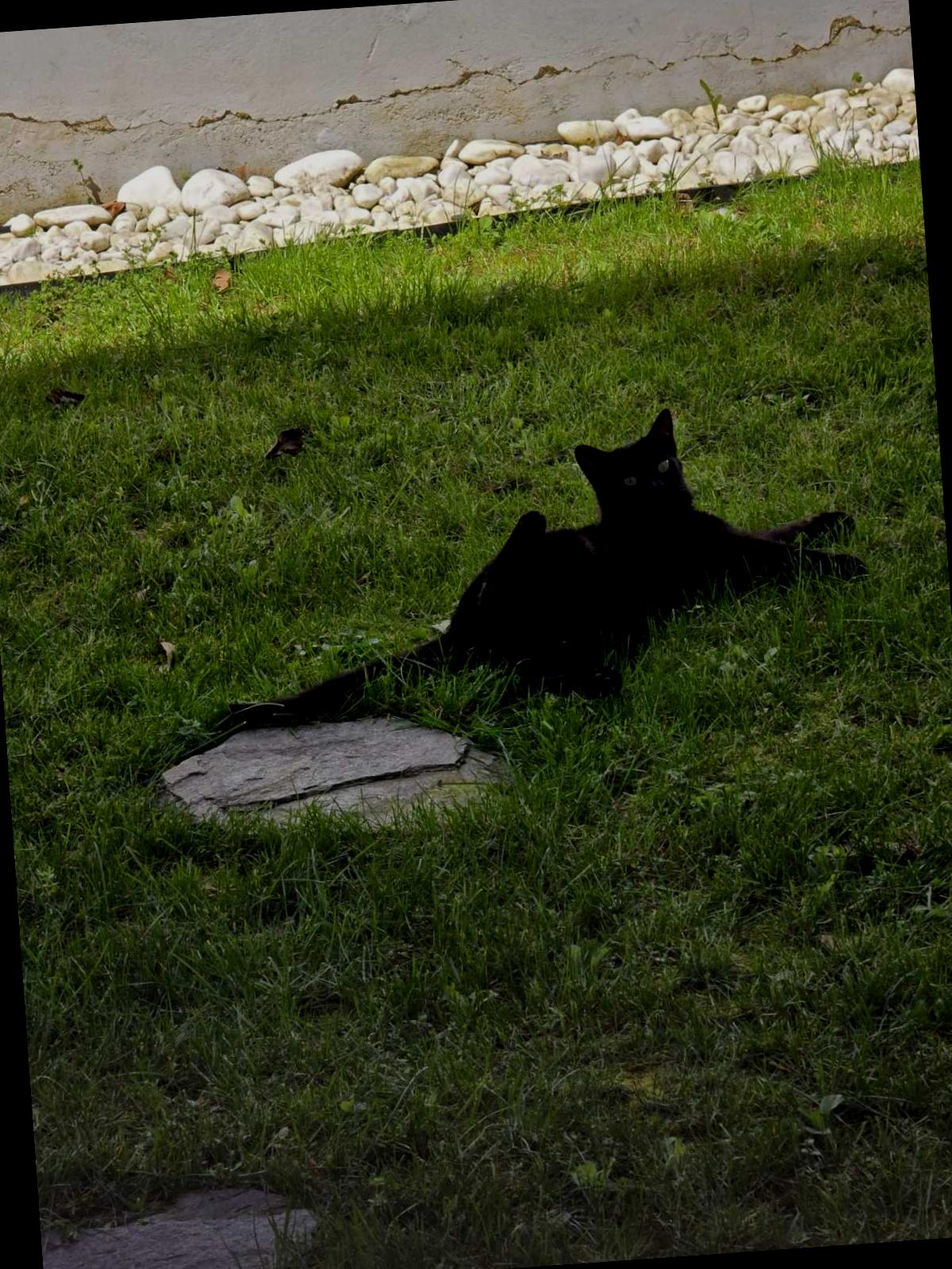macka: (184, 391, 876, 739)
